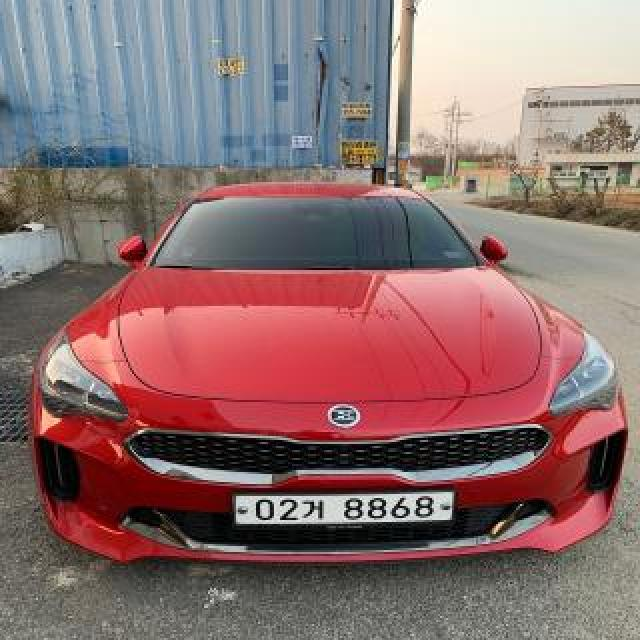car: (31, 174, 634, 581)
illegal_plate: (226, 486, 460, 538)
